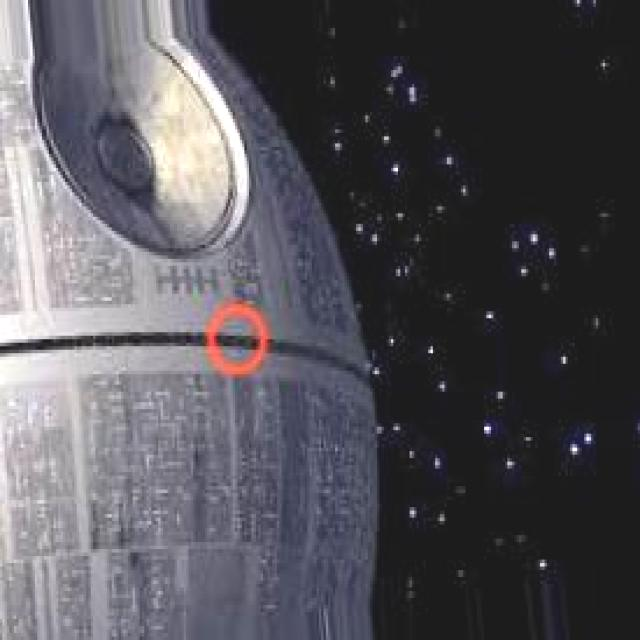deathstar: (1, 2, 381, 640)
